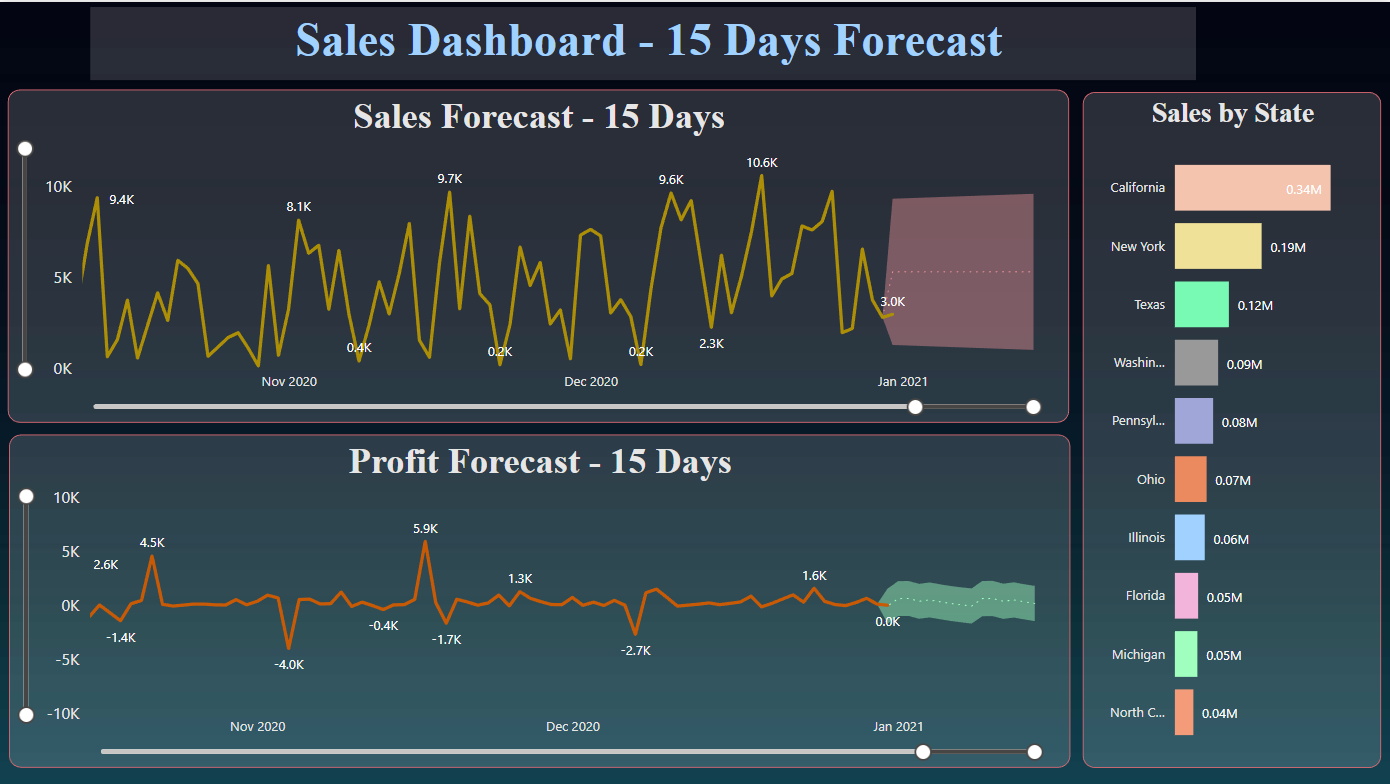

This screenshot's page, from the dashboard's own definition file:
{"tool":"powerbi","page":{"name":"Page 2","canvas":[1280,720],"ordinal":1},"visuals":[{"type":"lineChart","title":"Sales Forecast - 15 Days","fields":{"Y":["Sum(SuperStore_Sales_Dataset.Sales)"],"Category":["SuperStore_Sales_Dataset.Order Date"]},"box":[8.2,81,975.6,306],"z":0},{"type":"clusteredBarChart","title":"Sales by State","fields":{"Category":["SuperStore_Sales_Dataset.State"],"Y":["Sum(SuperStore_Sales_Dataset.Sales)"]},"box":[996.2,82.3,274.4,621.6],"z":1000},{"type":"lineChart","title":"Profit Forecast - 15 Days","fields":{"Y":["Sum(SuperStore_Sales_Dataset.Profit)"],"Category":["SuperStore_Sales_Dataset.Order Date"]},"box":[9.6,397.9,975.6,306],"z":2000},{"type":"textbox","box":[83.7,4.1,1016.8,67.2],"z":2001}]}

Visuals, with their boxes in screenshot pixels (x1, y1, x2, y2), scaled from the page's 1280x720 canvas onto the 1390x784 screenshot:
"Sales Forecast - 15 Days" lineChart: <box>9,88,1068,421</box>
"Sales by State" clusteredBarChart: <box>1082,90,1380,766</box>
"Profit Forecast - 15 Days" lineChart: <box>10,433,1070,766</box>
textbox: <box>91,4,1195,78</box>
